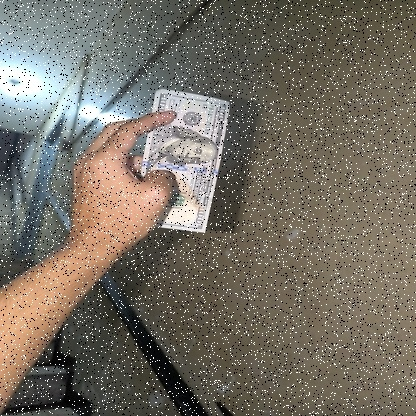one_hundred-front: (132, 87, 244, 236)
